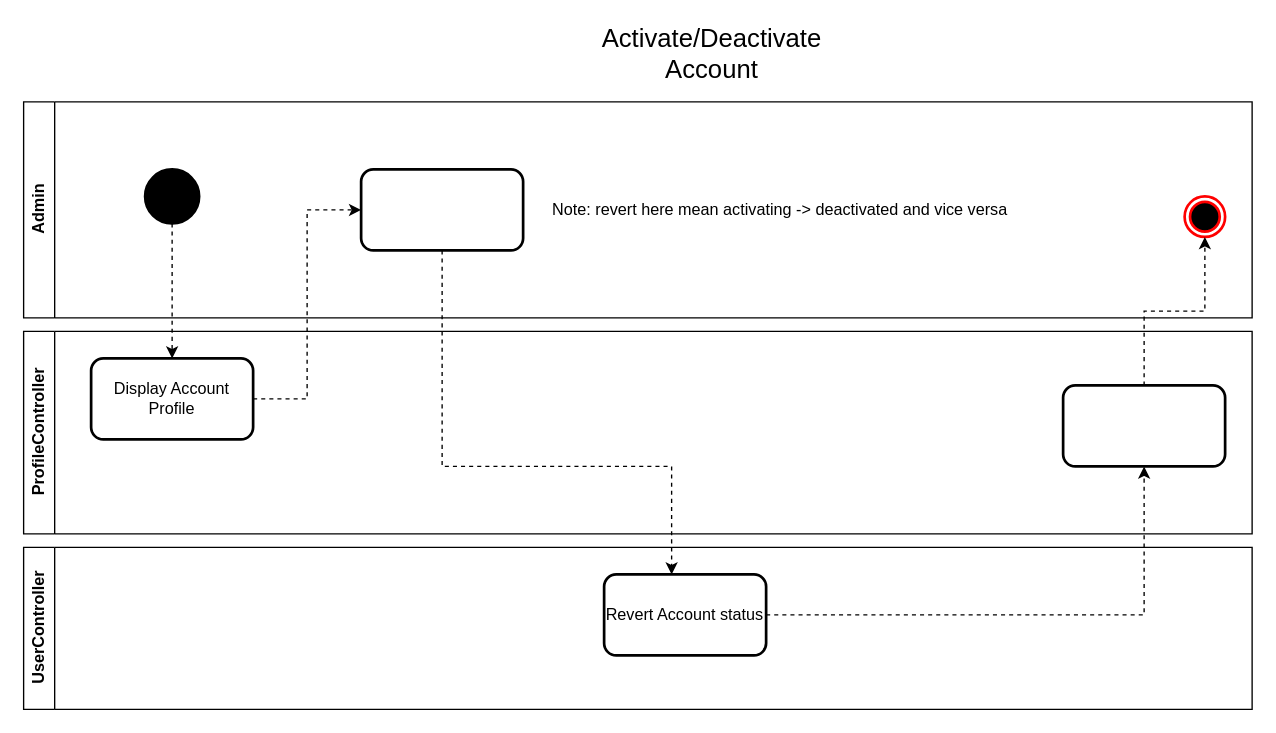
This 1276x733 diagram has some shape labels left out. The centre of each missing label's shape, as x and y in pixels:
"choose a User Profile" goes at [171,195].
"Click revert Account status" goes at [441,209].
"Update Account profile with new status" goes at [1143,425].
